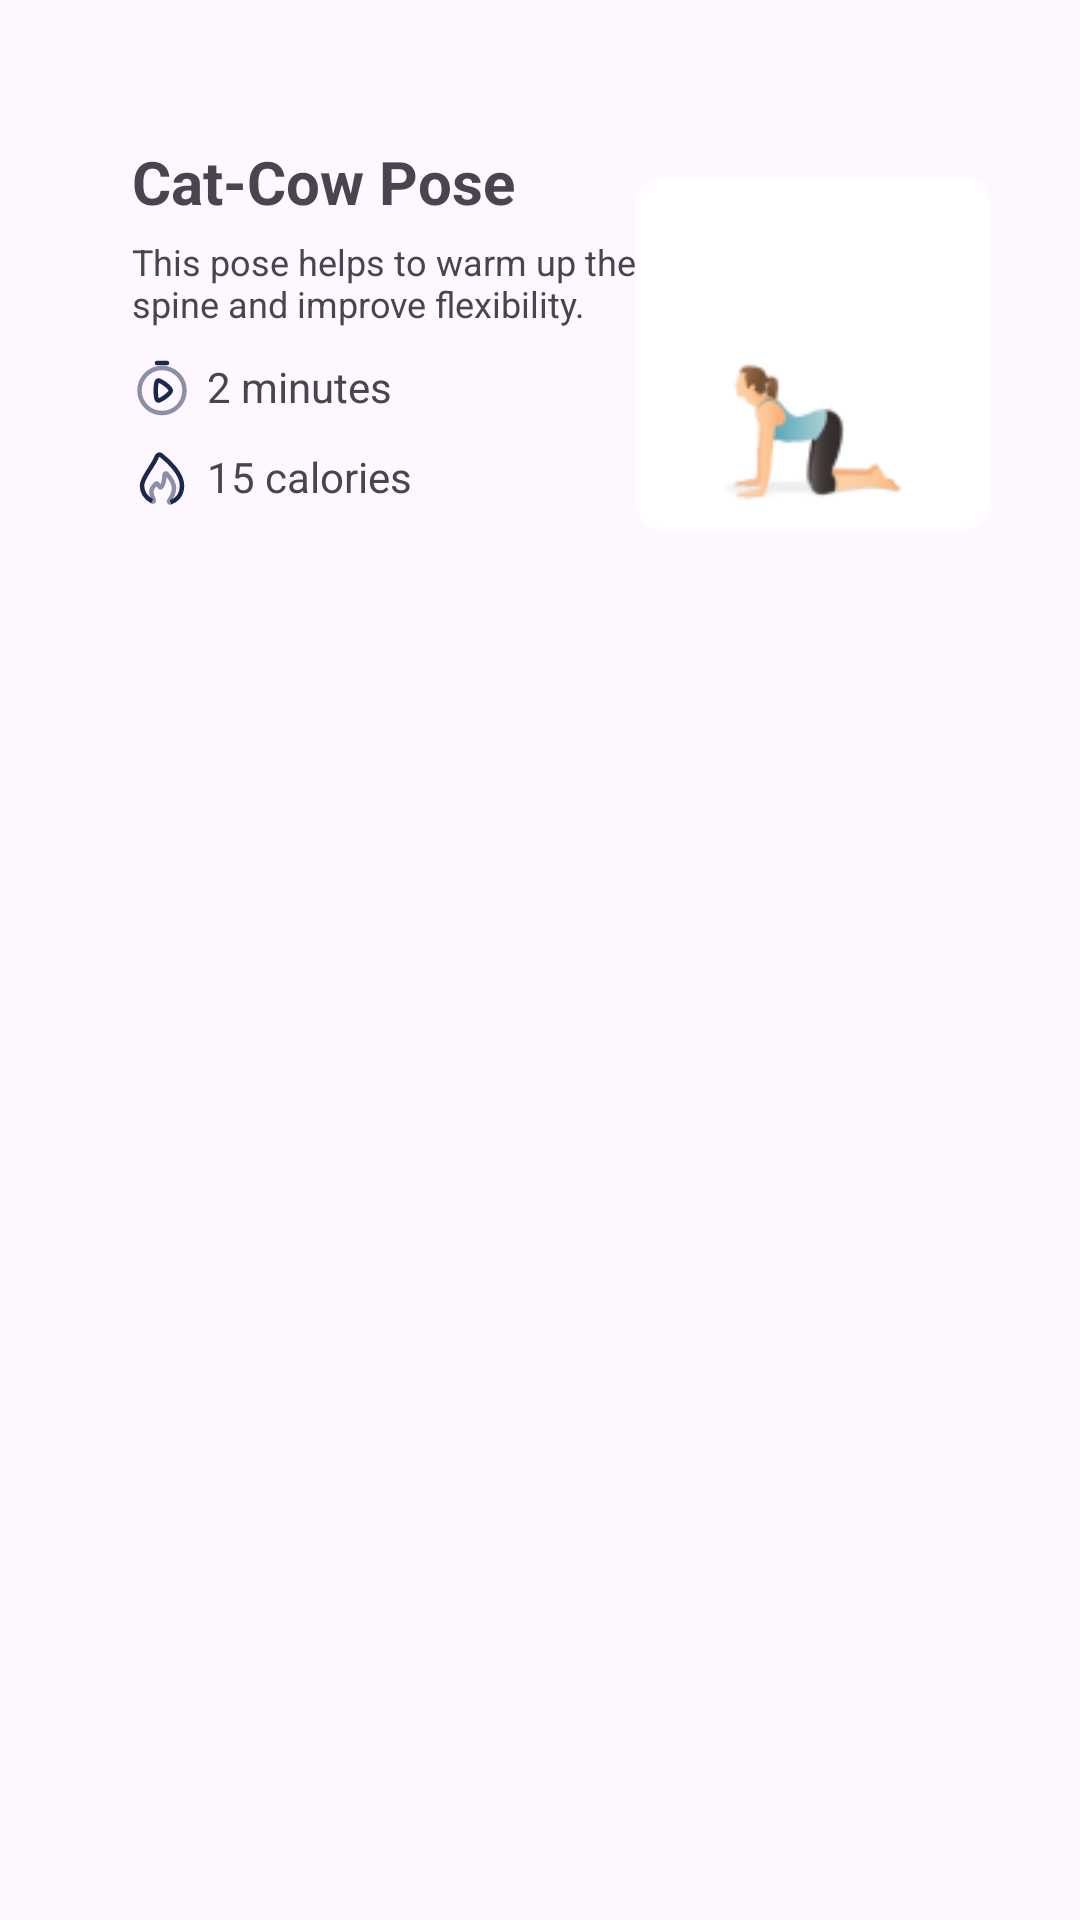

Locate icon controls on the screen. Image size 1080*1920, boxes as (x1, y1, x2, y2).
flame: (139, 452, 185, 505)
stopwatch play: (137, 360, 187, 416)
